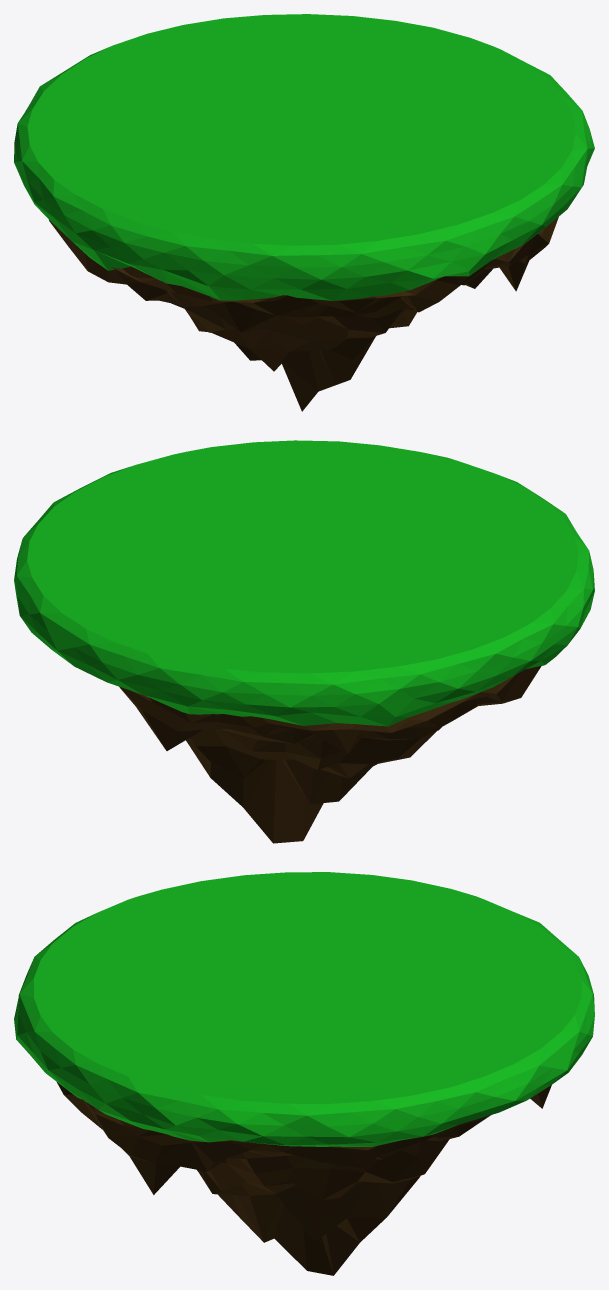
Rendered from The Park.fbx.
3 renders of one model, top to bottom at view 1: azimuth 30°, elevation 25°; view 2: azimuth 150°, elevation 25°; view 3: azimuth 270°, elevation 25°, orthographic.
Parts seen in each view (by area): view 1: Icosphere.001; view 2: Icosphere.001; view 3: Icosphere.001.
Part boxes in pixels (x1=…): Icosphere.001: x1=14, y1=14, x2=594, y2=411; Icosphere.001: x1=14, y1=440, x2=594, y2=843; Icosphere.001: x1=14, y1=872, x2=594, y2=1275.
Size of the model in its own units: 4048 by 2187 by 4069.
